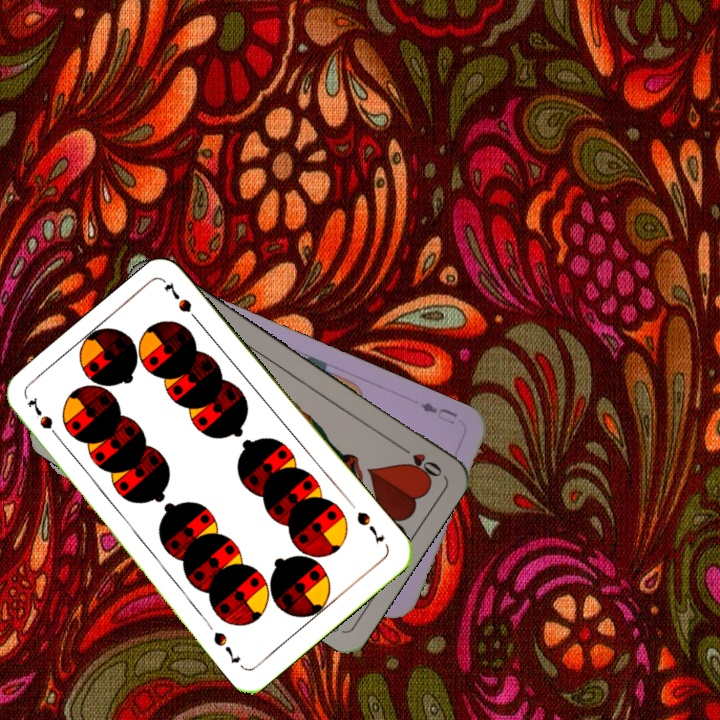EU: (416, 398, 460, 428)
HO: (393, 440, 445, 480)
S7: (23, 394, 65, 445), (352, 507, 387, 546)
